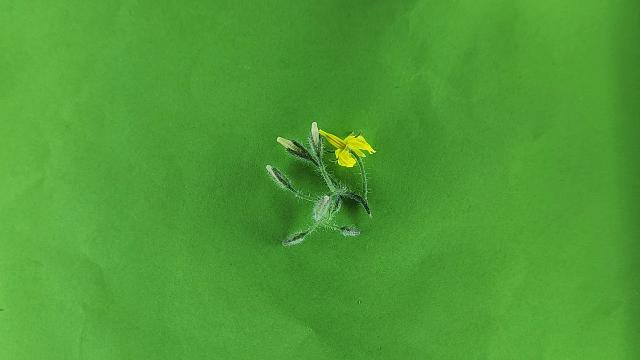Anthesis: (316, 125, 377, 170)
Flower Bud: (265, 164, 301, 199), (267, 164, 295, 193), (284, 141, 317, 163), (307, 129, 324, 164), (339, 189, 369, 207), (276, 136, 305, 154), (282, 230, 310, 247), (278, 230, 307, 246), (266, 164, 282, 184), (339, 225, 361, 237), (311, 121, 319, 146), (340, 225, 360, 235)
